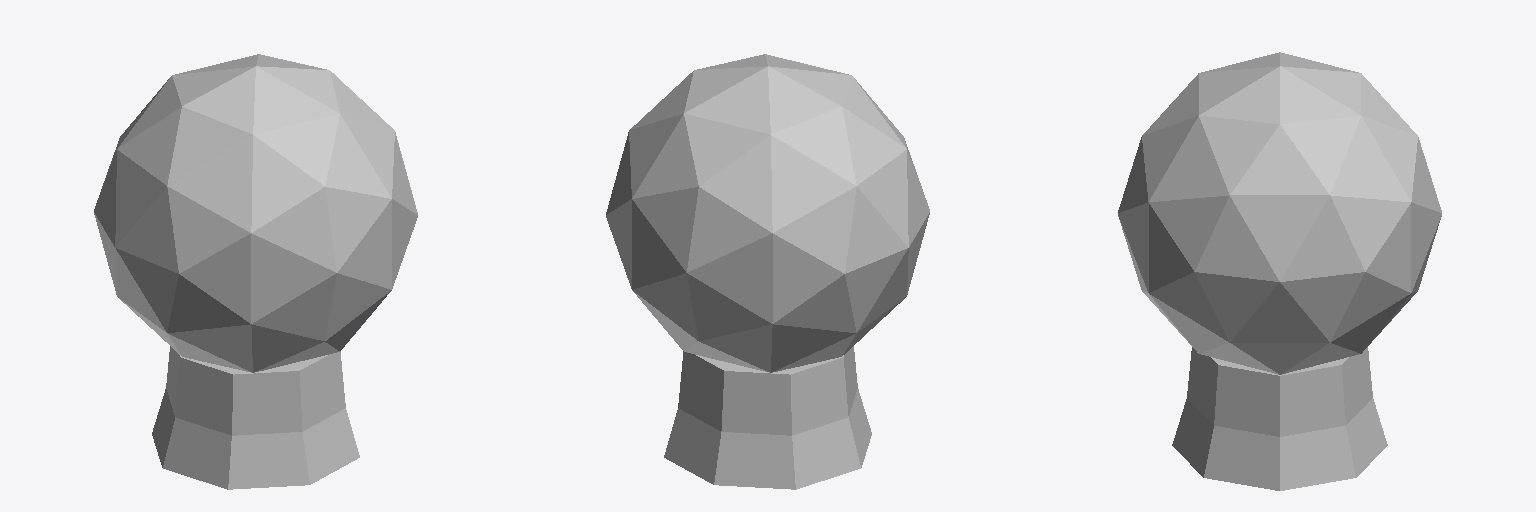
Rendered from GlobeOrnament.obj.
The picture shows the model from 3 angles: view 1: azimuth 30°, elevation 25°; view 2: azimuth 150°, elevation 25°; view 3: azimuth 270°, elevation 25°; orthographic projection.
Parts seen in each view (by area): view 1: GlobeOrnament; view 2: GlobeOrnament; view 3: GlobeOrnament.
Part boxes in pixels (x1,y1,x2,y2): GlobeOrnament: (94, 54, 417, 489); GlobeOrnament: (606, 54, 929, 489); GlobeOrnament: (1118, 52, 1441, 490).
Bounding box in the file's own units: 0.68 × 0.876 × 0.68.